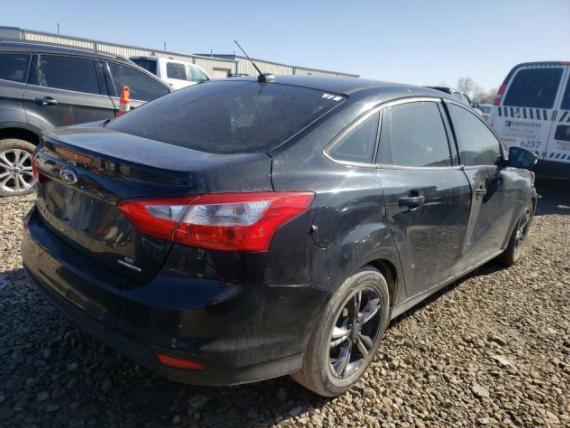Back-bumper: (18, 203, 328, 387)
Back-door: (375, 96, 471, 296)
Back-wheel: (295, 264, 390, 396)
Back-window: (377, 102, 452, 167), (327, 112, 379, 162)
Back-windshield: (102, 80, 346, 153)
Fender: (504, 167, 538, 245)
Front-door: (442, 99, 518, 271)
Front-wheel: (504, 196, 534, 266)
Front-window: (444, 99, 509, 169)
Mirror: (502, 144, 540, 167)
Quarter-panel: (262, 150, 409, 307)
Rocker-panel: (390, 245, 504, 320)
Roof: (225, 75, 431, 96)
Tail-light: (173, 191, 311, 251), (118, 196, 199, 241), (32, 158, 41, 182)
Trunk: (32, 120, 273, 279)
